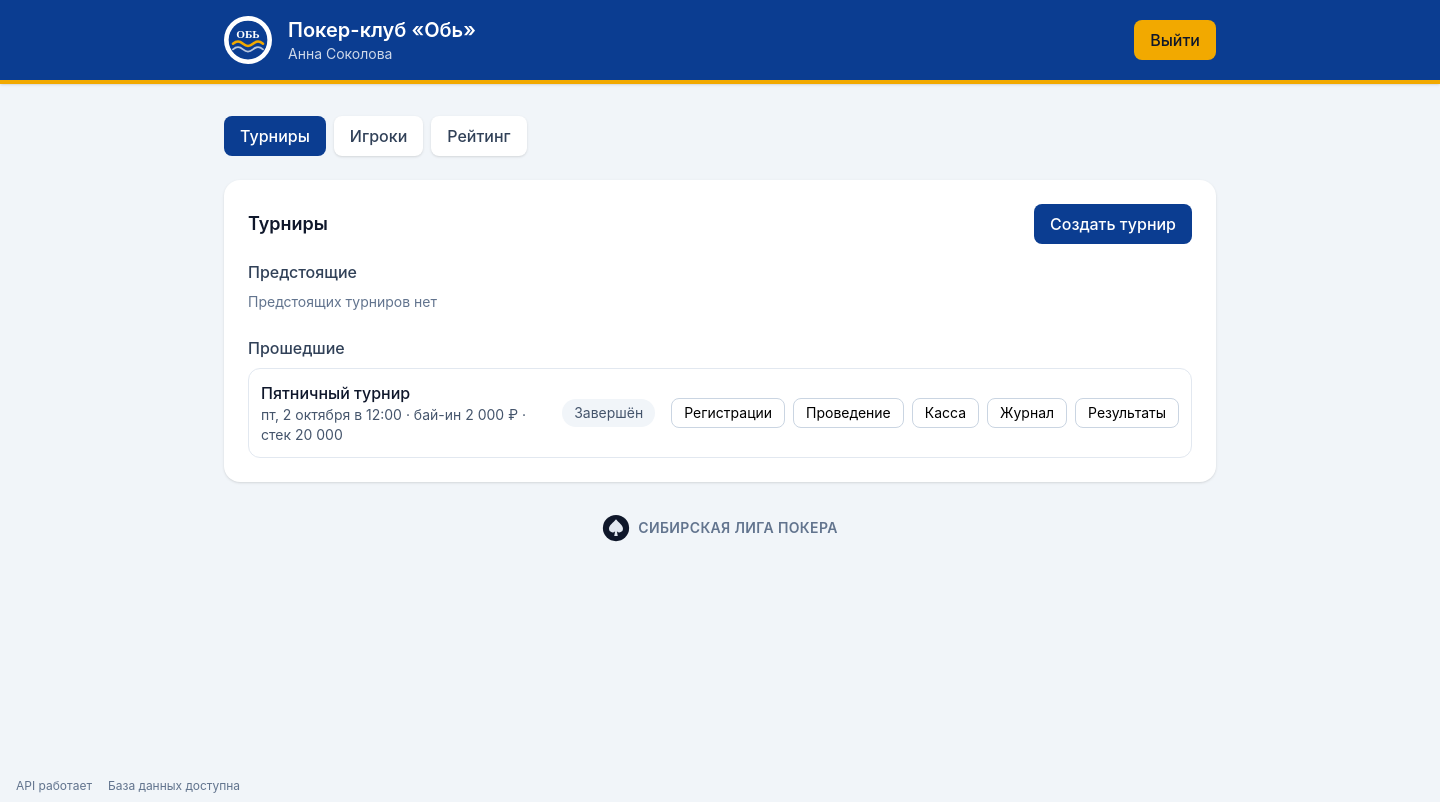
Test: tournament results › corrects a place: the players in between move down and points are counted again
Click the button "Результаты" at (1127, 413), box [1075,398,1179,428]
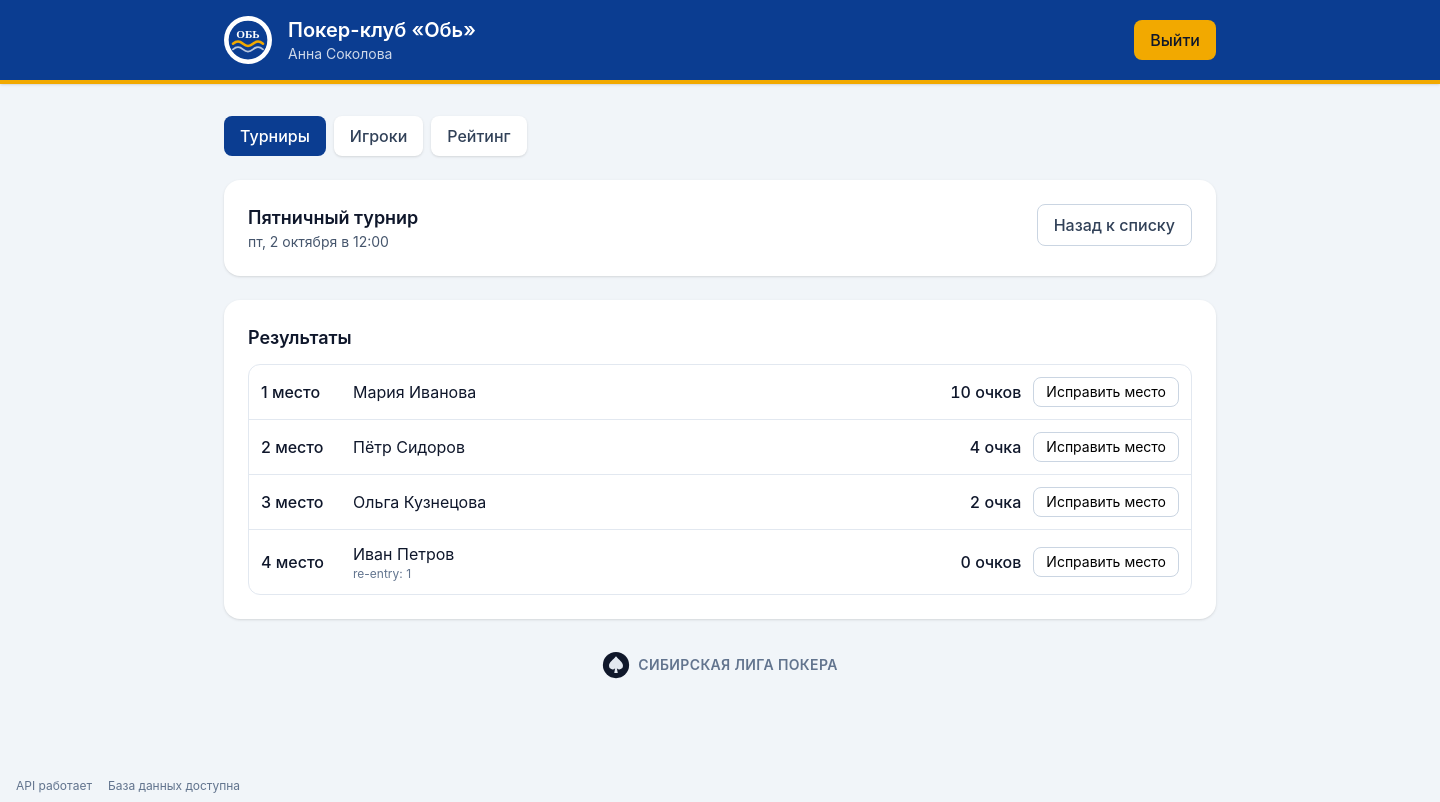
Check: the heading "Пятничный турнир" is shown, box [248,204,418,232]
Click the button "Исправить место" in the row of "Иван Петров" at (1106, 562), box [1033,547,1179,577]
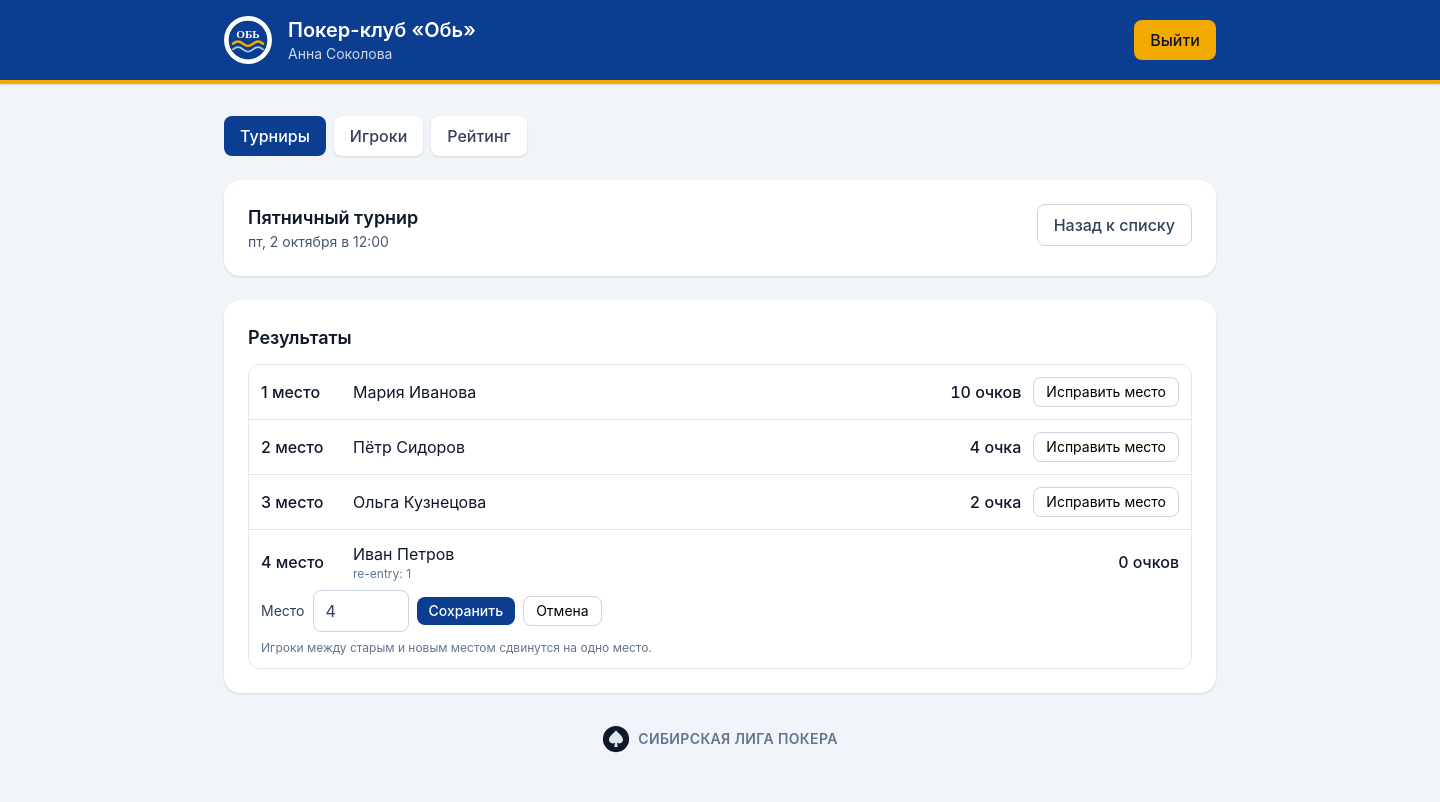
Replace the text in the number field labelled "Место" with "2" at (360, 611), box [312,590,408,632]
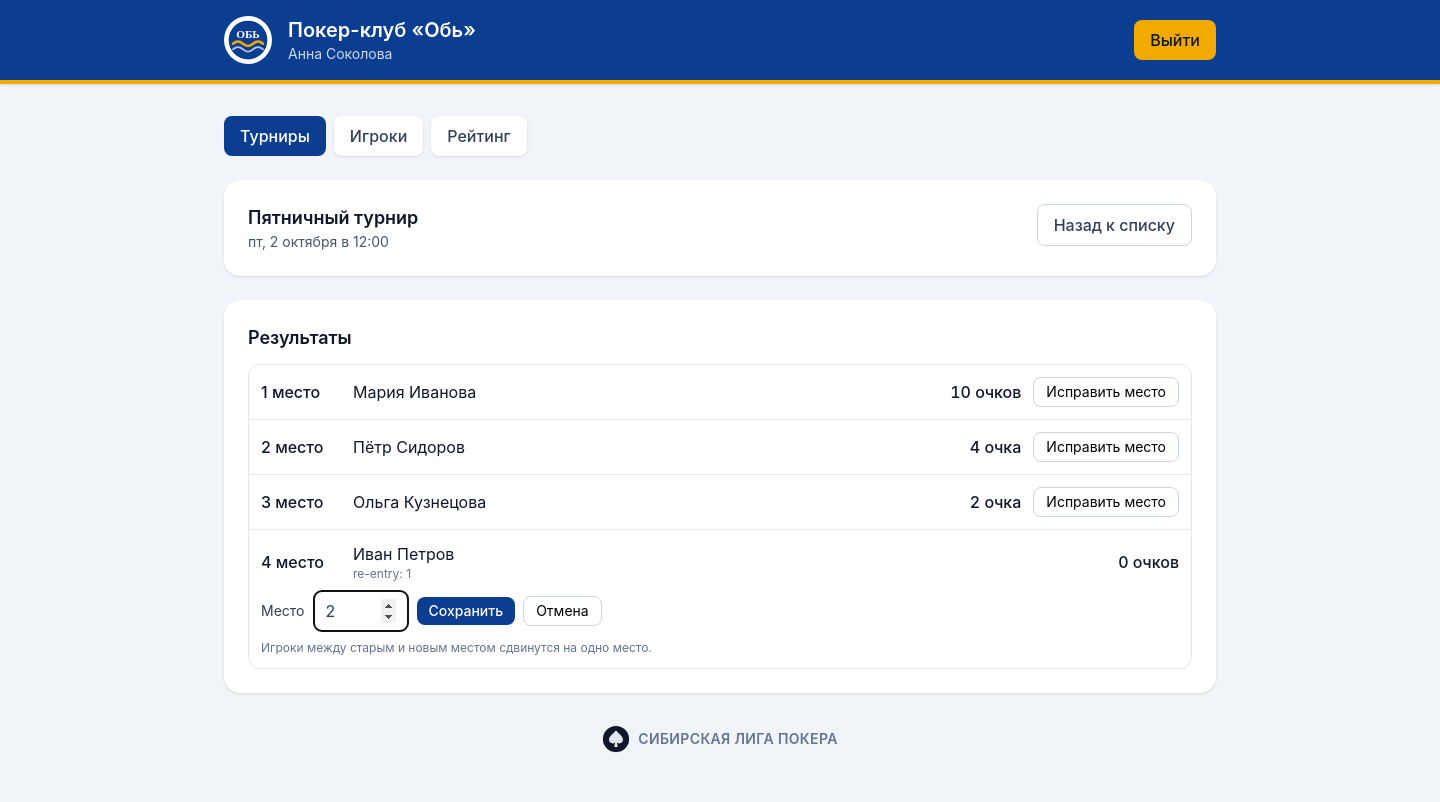
Click the button "Сохранить" at (466, 611), box [416,597,515,625]
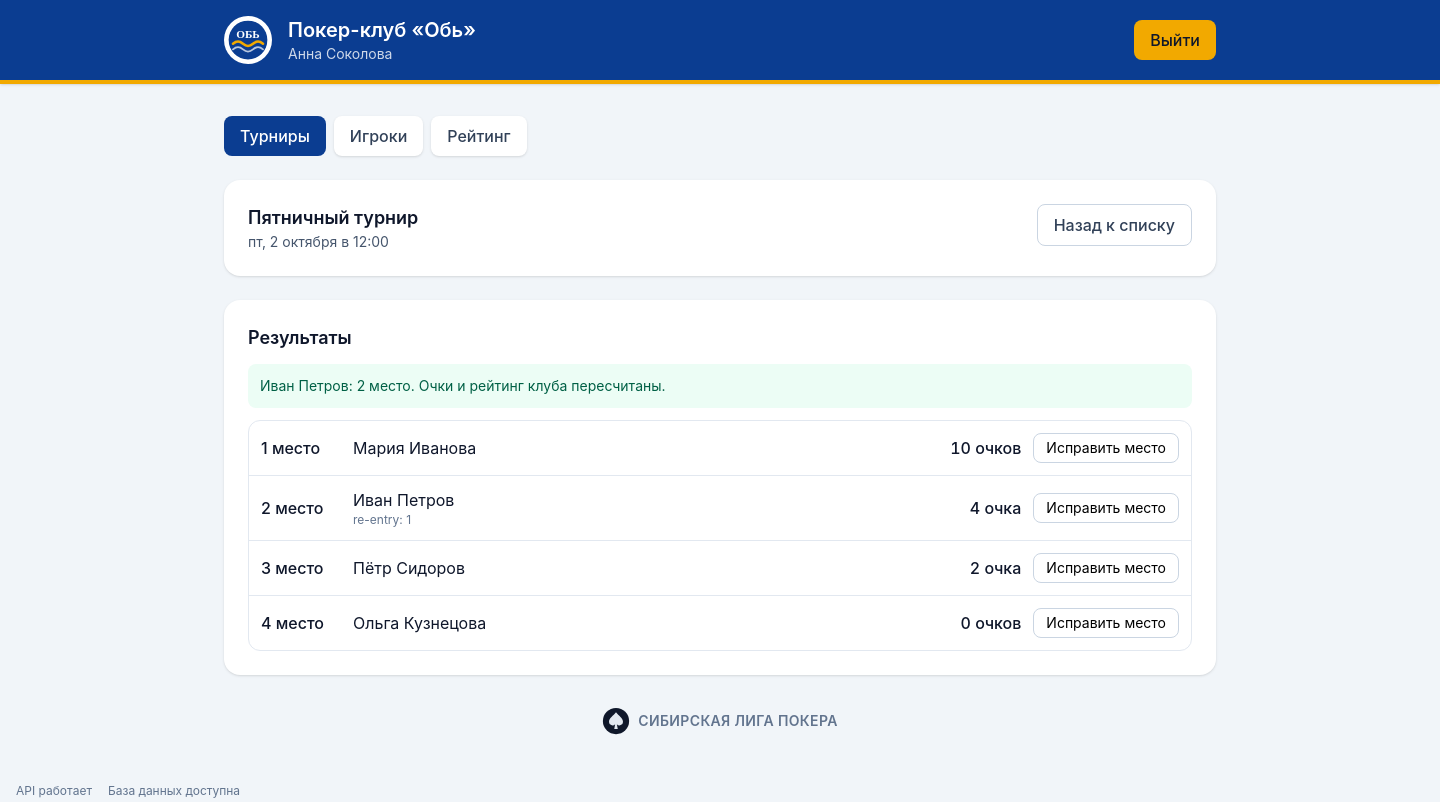
Check: the message reads "Иван Петров: 2 место. Очки и рейтинг клуба пересчитаны.", box [260,377,666,394]
Check: the list item "Иван Петров" shows "2 место", box [249,476,1191,541]
Check: the list item "Иван Петров" shows "4 очка", box [970,498,1021,518]
